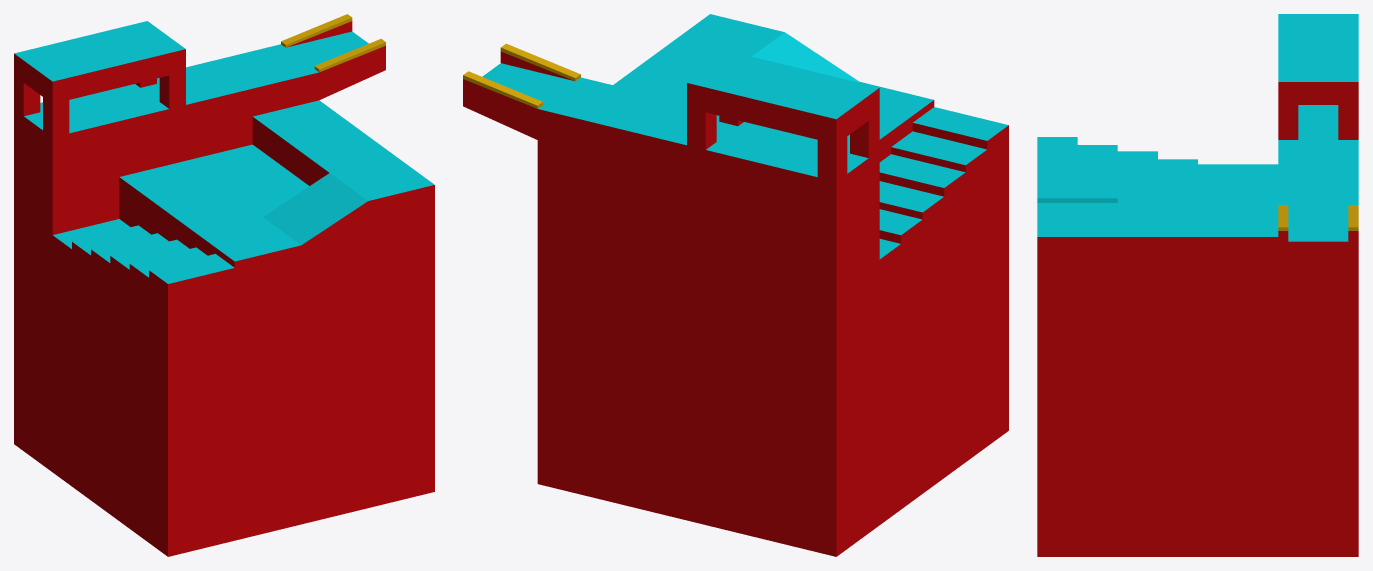
Rendered from SbS_Level_02.fbx.
3 views of the same model, side by side, from view 1: azimuth 30°, elevation 25°; view 2: azimuth 150°, elevation 25°; view 3: azimuth 270°, elevation 25° (orthographic). The views are drawn at different scales.
Visible parts, largest first — view 1: SbS_Level_01; view 2: SbS_Level_01; view 3: SbS_Level_01.
Boxes of the visible parts, left/top/right/bottom form: SbS_Level_01: left=14, top=14, right=434, bottom=556; SbS_Level_01: left=463, top=14, right=1008, bottom=556; SbS_Level_01: left=1037, top=14, right=1358, bottom=556.
Bounding box in the file's own units: 1250 × 1400 × 1000.
